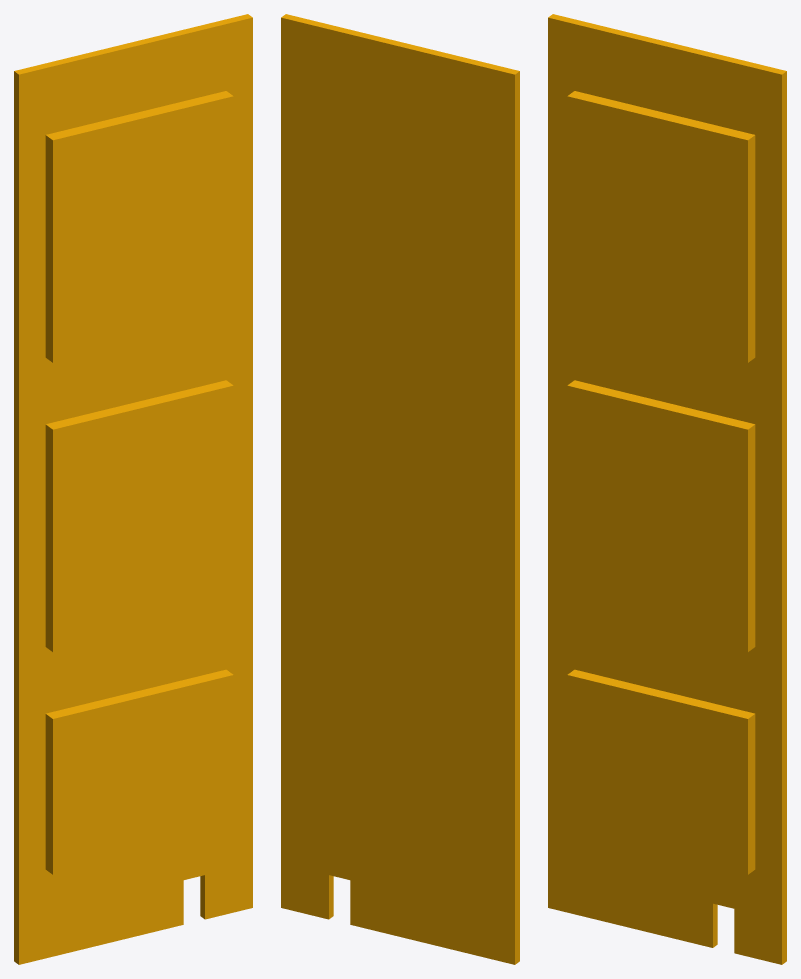
File: ssd.glb
3 renders of one model, left to right at view 1: azimuth 30°, elevation 25°; view 2: azimuth 150°, elevation 25°; view 3: azimuth 330°, elevation 25°, orthographic.
Visible parts, largest first — view 1: ssd; view 2: ssd; view 3: ssd.
Boxes of the visible parts, bbox=[...] form: ssd: bbox=[14, 14, 252, 964]; ssd: bbox=[281, 14, 519, 964]; ssd: bbox=[548, 14, 786, 964].
Size of the model in its own units: 0.022 by 0.08 by 0.002.
